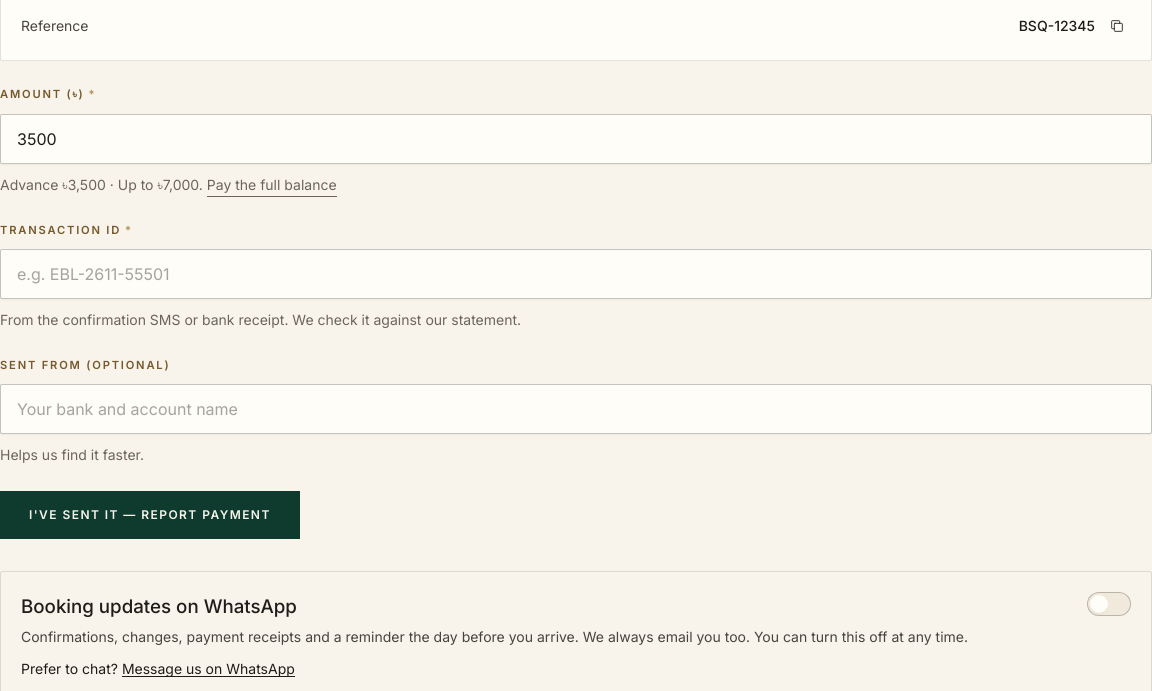
Scenario: guest: paying a booking › reporting a transfer: shows our account, checks the ID and amount, then reports it
Later steps or results of the test are not shown.
(page scrolled)
Check: the field labelled "Amount (৳)*" holds "3500", box x1=0 y1=114 x2=1151 y2=164
Step 1. Click the button "I've sent it — report payment" → (150, 515), box x1=0 y1=491 x2=300 y2=539
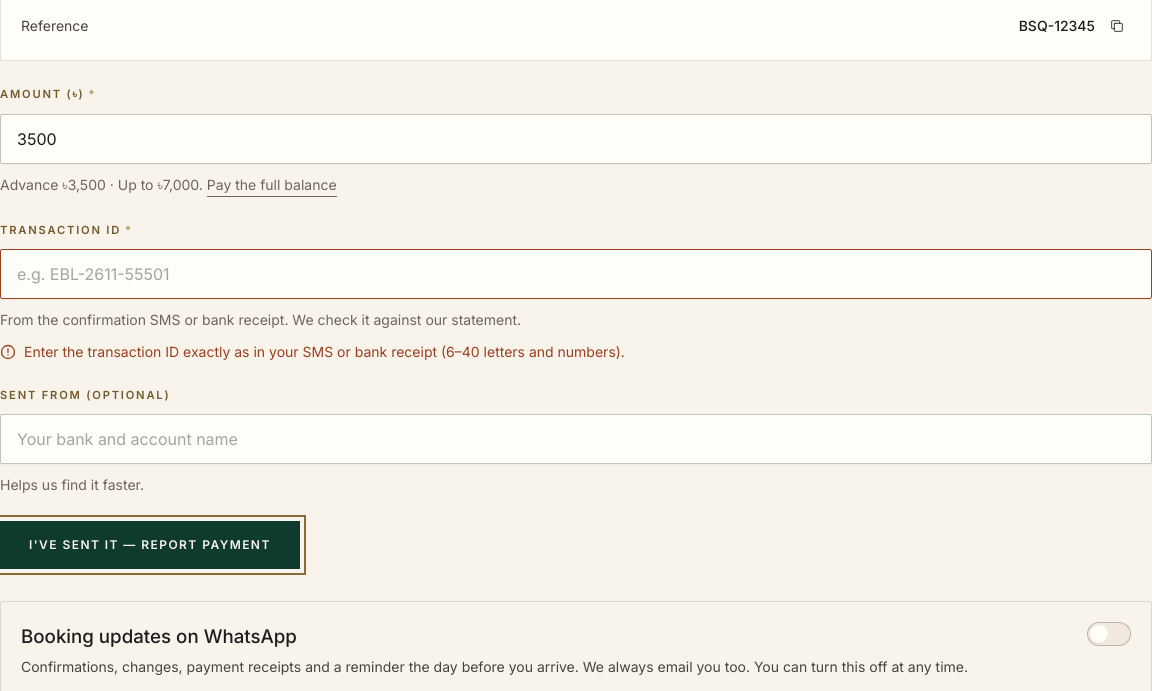
Check: the text "exactly as in your SMS" is shown, box x1=24 y1=343 x2=625 y2=360
Step 2. Replace the text in the field labelled "Amount (৳)*" with "9000" → (576, 139), box x1=0 y1=114 x2=1151 y2=164
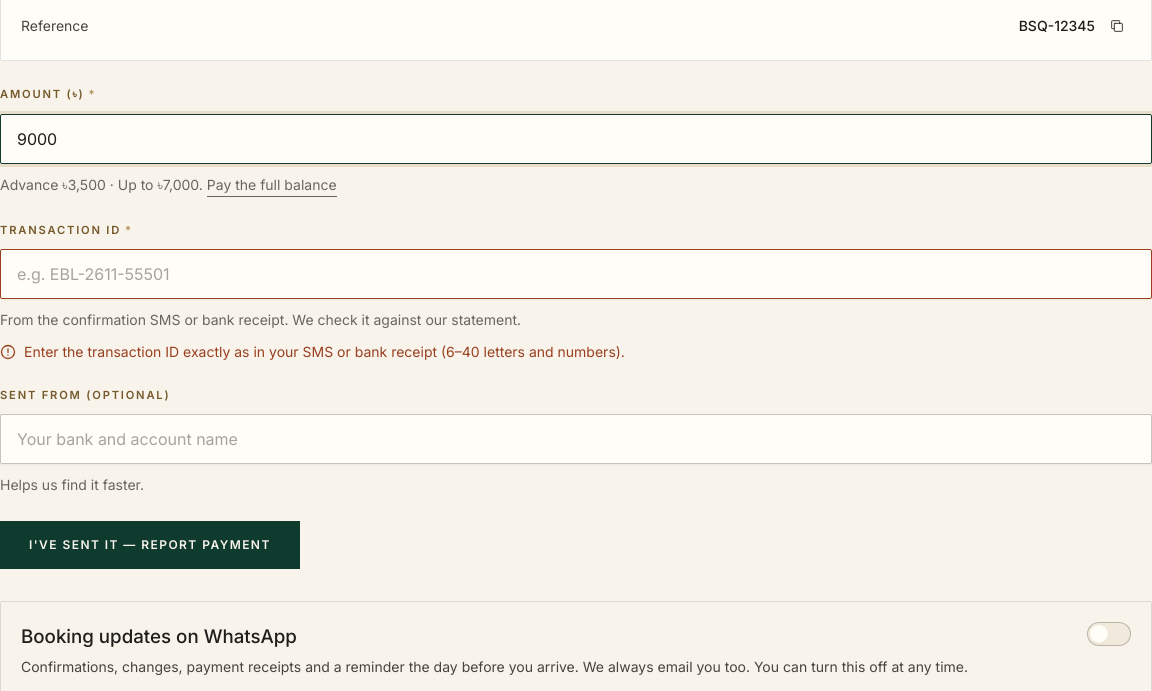
Step 3. Type "EBL 2611 55501" into the field labelled "Transaction ID*" → (576, 274), box x1=0 y1=249 x2=1151 y2=299
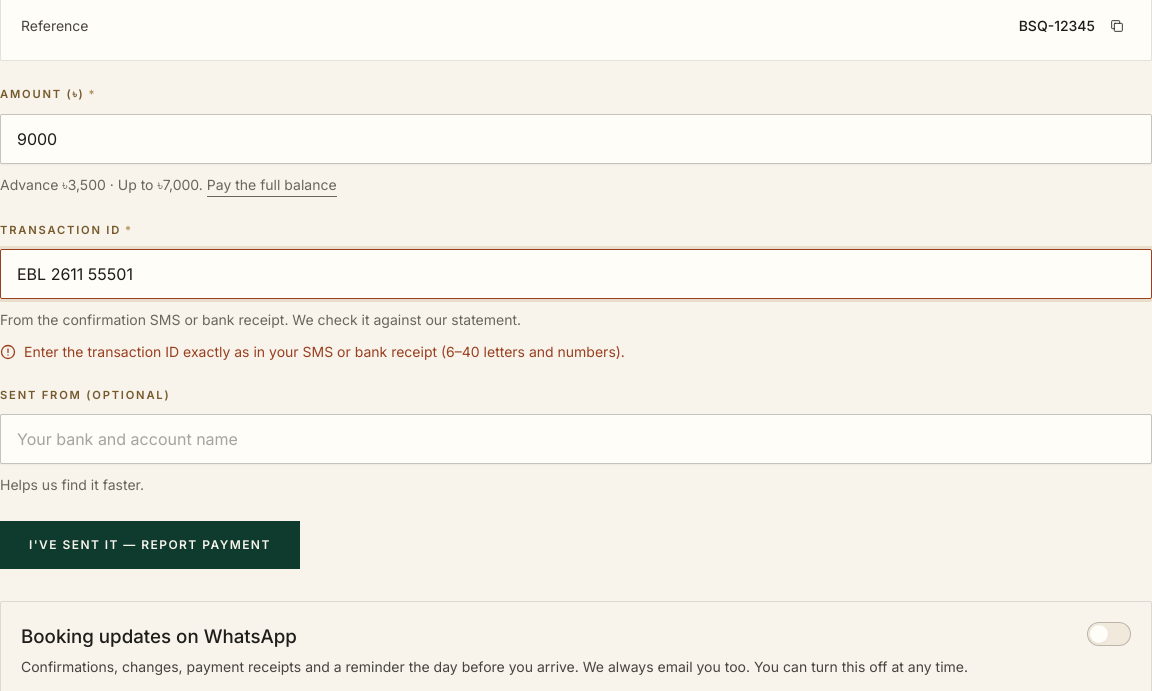
Step 4. Click the button "I've sent it — report payment" → (150, 545), box x1=0 y1=521 x2=300 y2=569
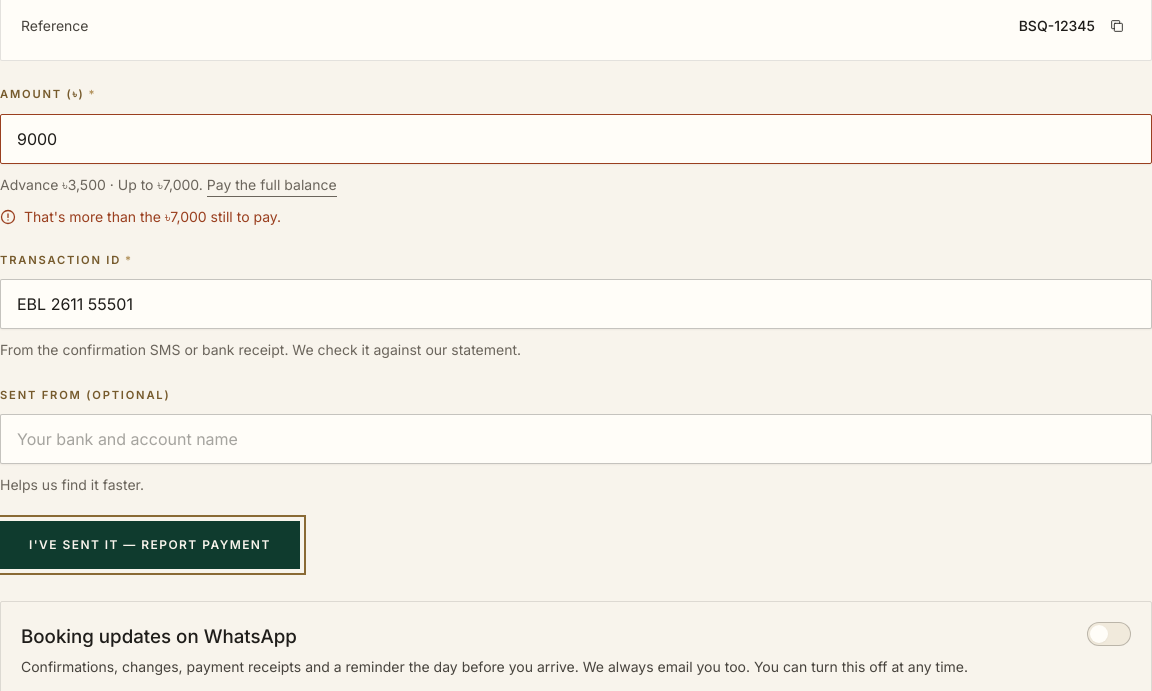
Check: the text "That's more than the ৳7,000 still to pay." is shown, box x1=0 y1=208 x2=281 y2=225
